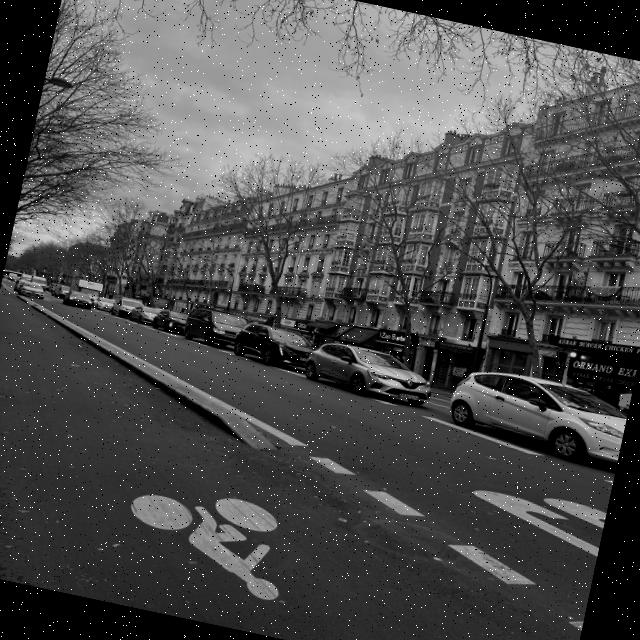Autre: (394, 388, 425, 404)
